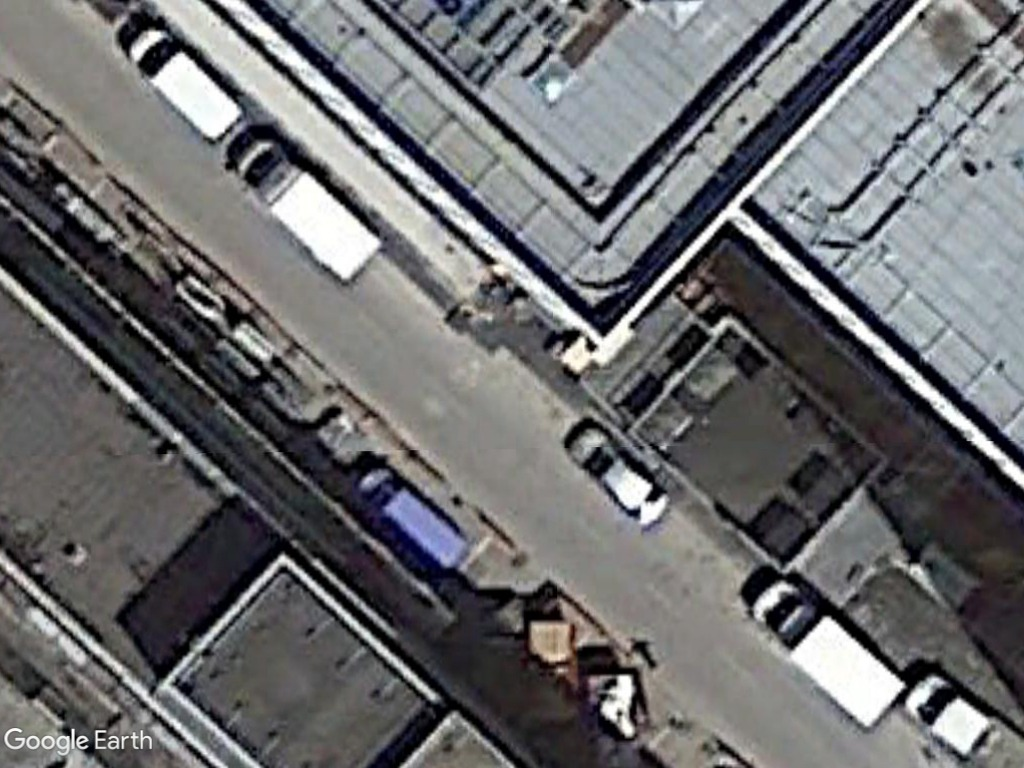car: (560, 416, 669, 534)
truck: (742, 569, 914, 733), (222, 135, 385, 286)
van: (123, 22, 246, 145)
